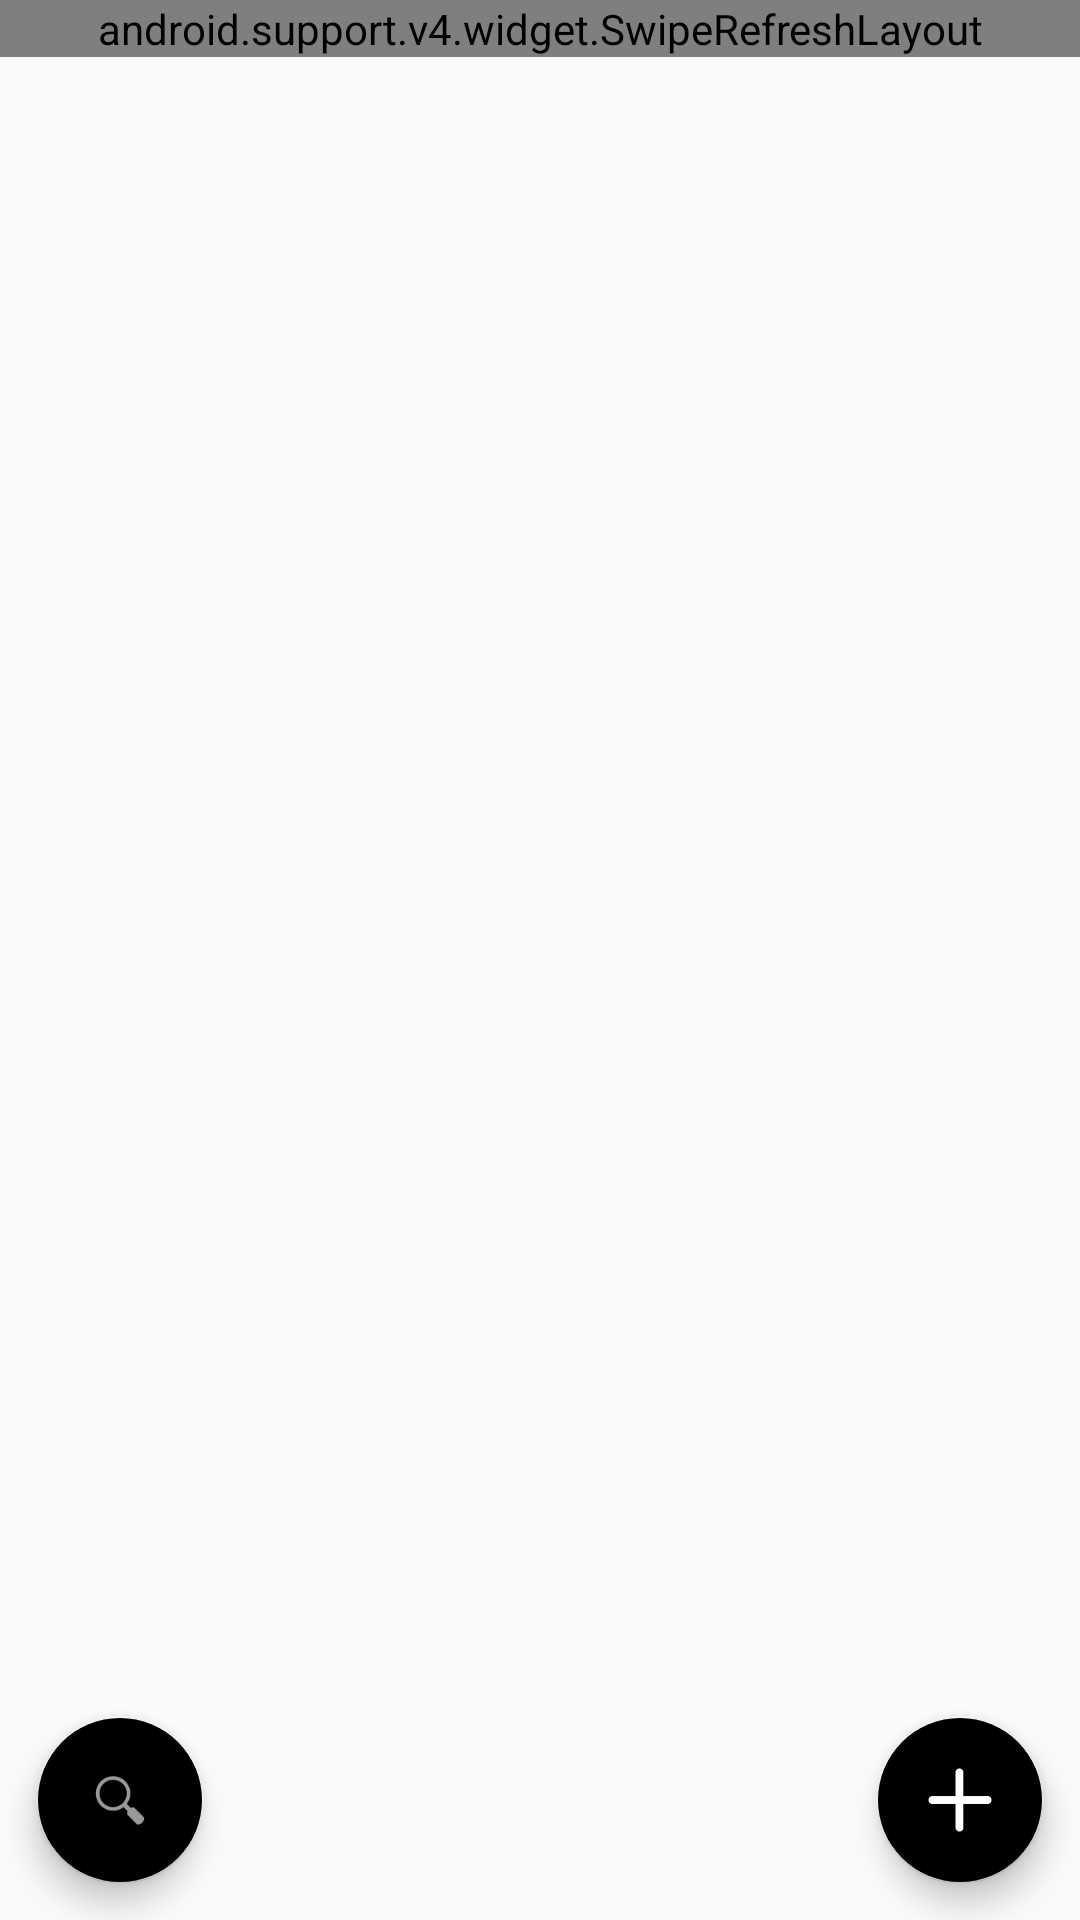

Locate icon controls on the screen. Image size 1080px×1920px, boxes as (x1, y1, x2, y2).
add: (878, 1718, 1044, 1884)
search: (36, 1718, 202, 1884)
